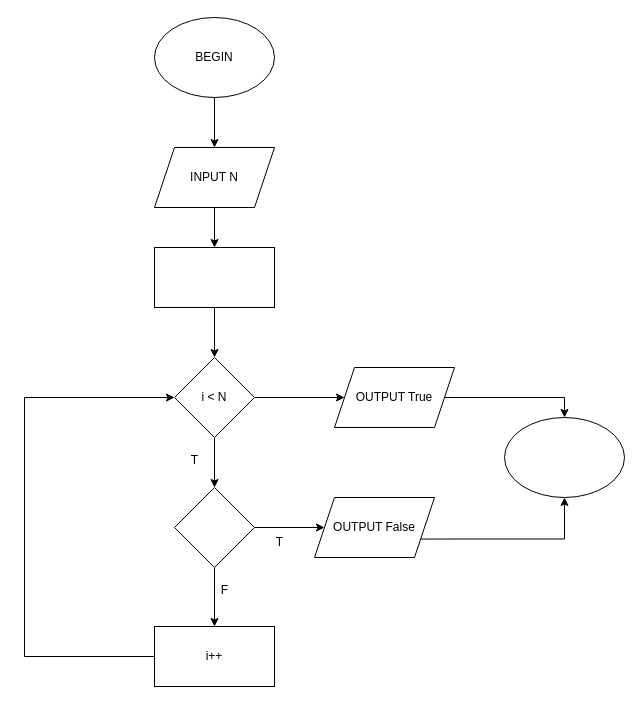
Some shapes in this 642 by 704 pixel diagram are drawn without their labels. Each missing label, with the centre of its shape:
"END" belongs at pixel 564 457.
"i = 2" belongs at pixel 214 277.
"N % i == 0" belongs at pixel 214 527.
